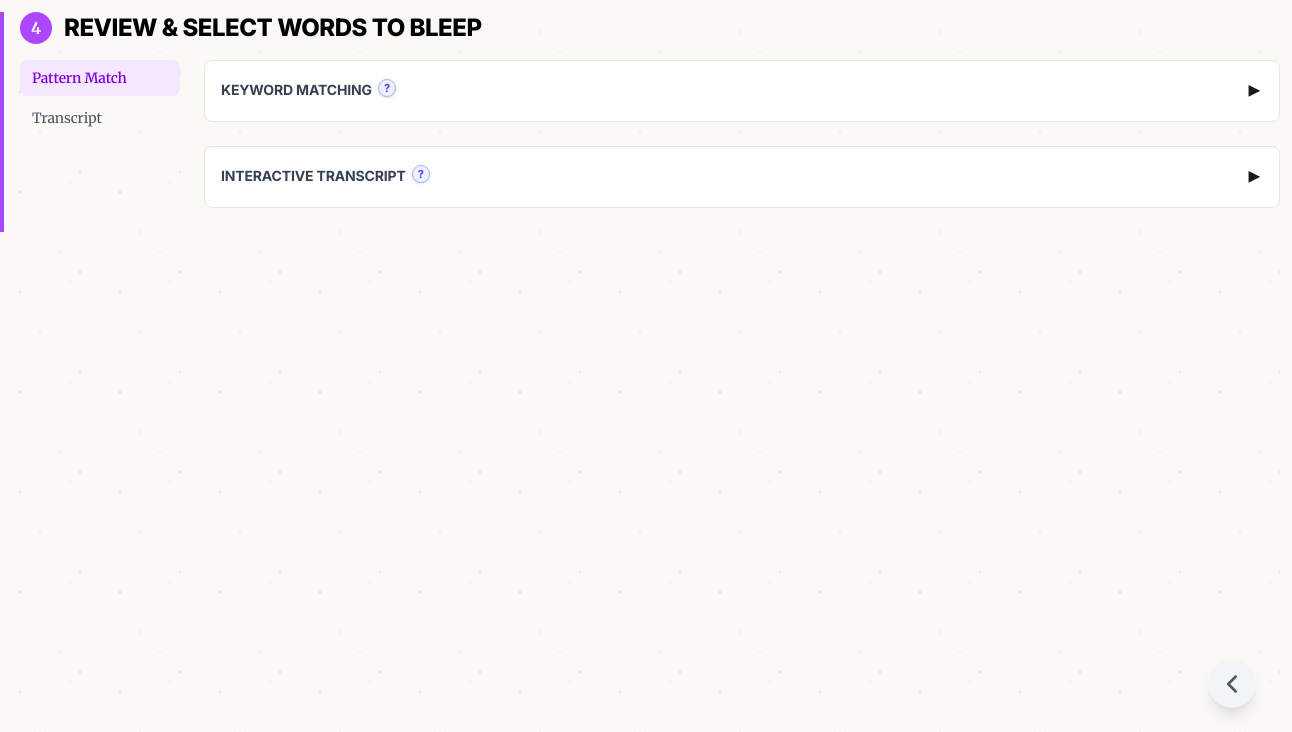
Test: ReviewMatchTab › Match mode checkboxes › shows correct checked state for partial match
The image size is (1292, 732).
Click the button "Keyword Matching ? ▼": (296, 89) [205,61,1279,121]
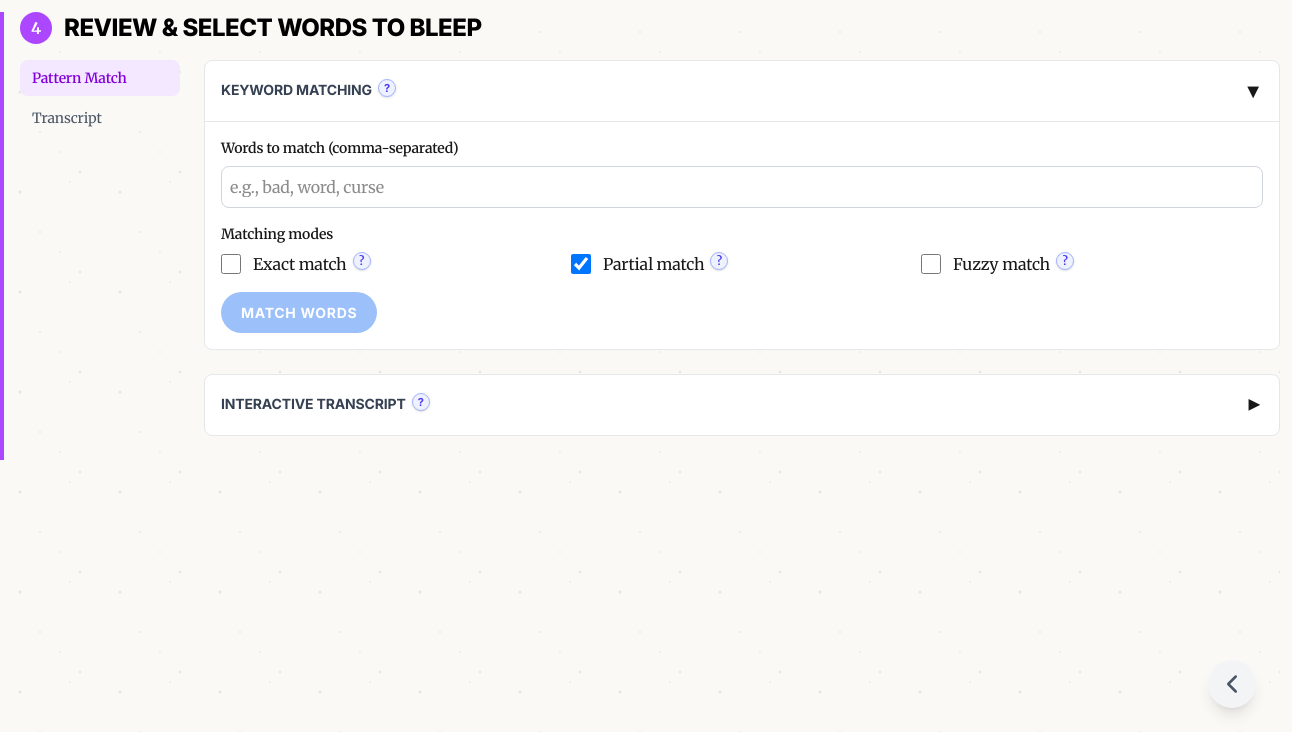
Check: the checkbox with test id "partial-match-checkbox" is checked, box [571,254,591,274]
